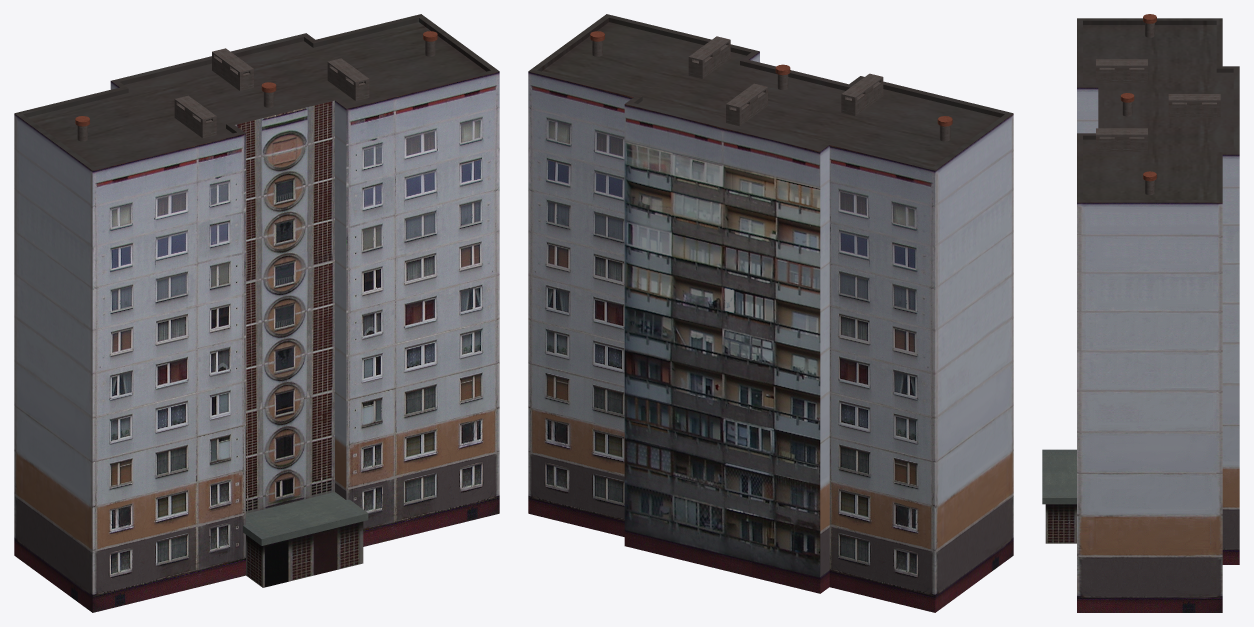
File: spah9lvl.obj
3 views of the same model, side by side, from view 1: azimuth 30°, elevation 25°; view 2: azimuth 150°, elevation 25°; view 3: azimuth 270°, elevation 25° (orthographic). The views are drawn at different scales.
Visible parts, largest first — view 1: spah9lvl; view 2: spah9lvl; view 3: spah9lvl.
Boxes of the visible parts, x1,y1,x2,y2 form: spah9lvl: (14,14,499,612); spah9lvl: (528,14,1013,612); spah9lvl: (1042,14,1239,612).
Bounding box in the file's own units: 293 × 315 × 133.
